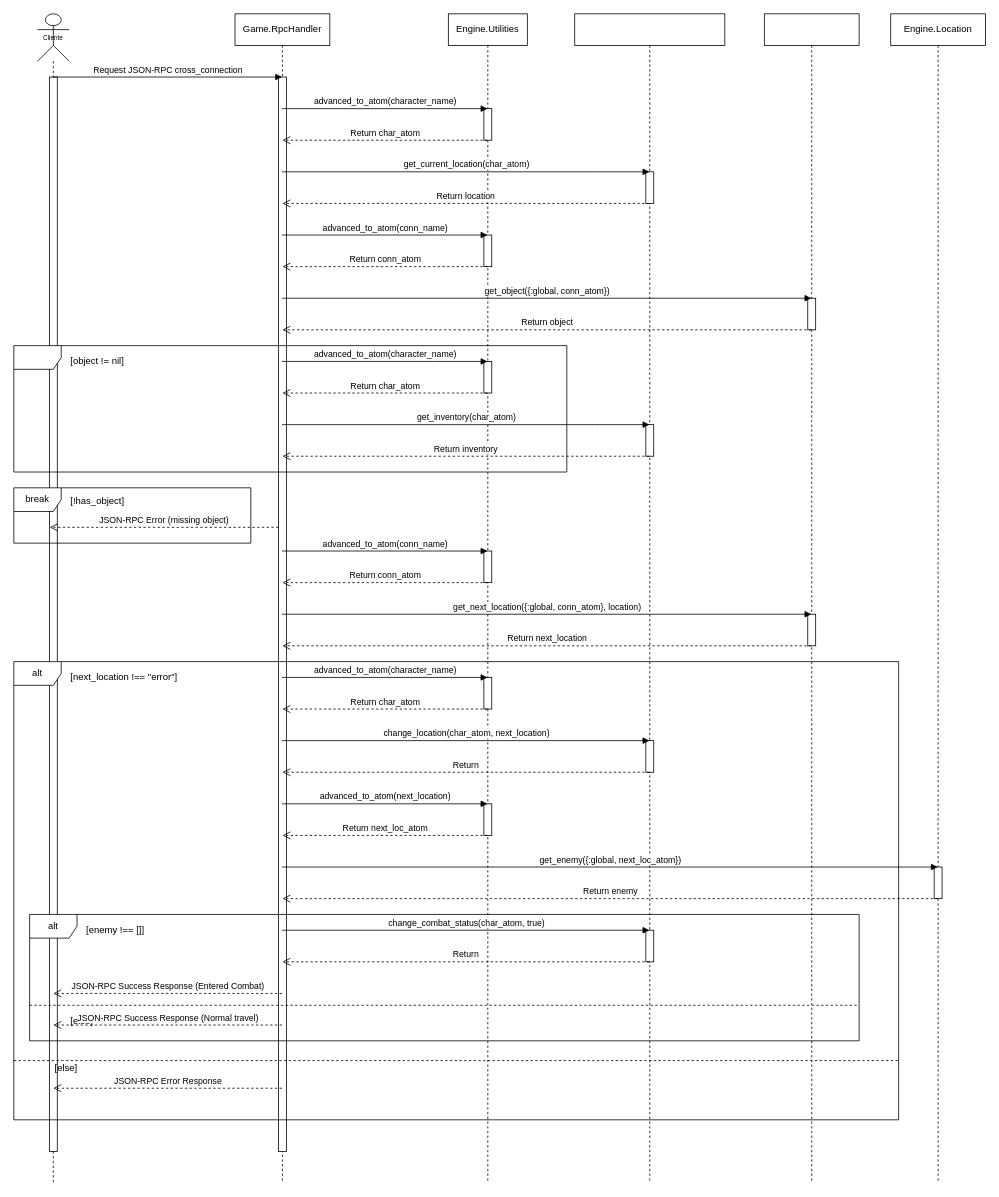
This 999x1197 diagram has some shape labels left out. The box of each missing label's shape, as (x1, y1, x2, y2) in pixels:
Engine.Connection: (764, 13, 859, 1183)
Game.RemoteCharacterManager: (574, 13, 725, 1183)
opt: (13, 345, 567, 472)
